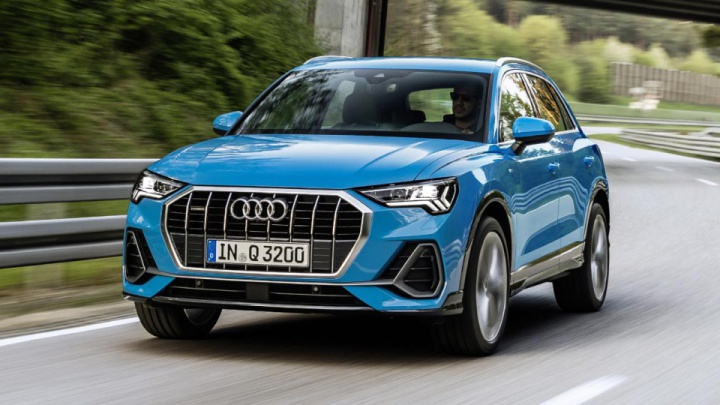audi: (223, 194, 293, 223)
